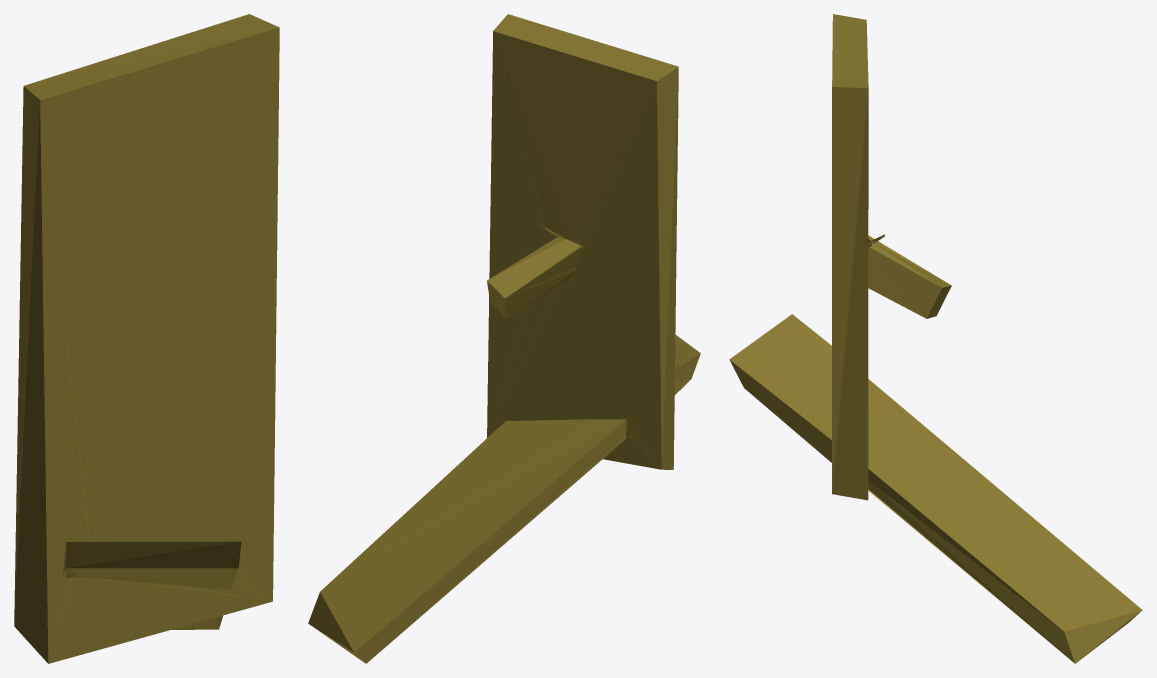
The picture shows the model from 3 angles, left to right: view 1: azimuth 30°, elevation 25°; view 2: azimuth 150°, elevation 25°; view 3: azimuth 270°, elevation 25°; orthographic projection. The views are drawn at different scales.
Parts seen in each view (by area): view 1: 919_Cube.3714; view 2: 919_Cube.3714; view 3: 919_Cube.3714.
Part boxes in pixels (box(x1,y1,x2,y2)): 919_Cube.3714: box(14, 14, 279, 663); 919_Cube.3714: box(308, 14, 700, 663); 919_Cube.3714: box(729, 14, 1142, 663).
Bounding box in the file's own units: 7.92 × 16.25 × 11.29.
